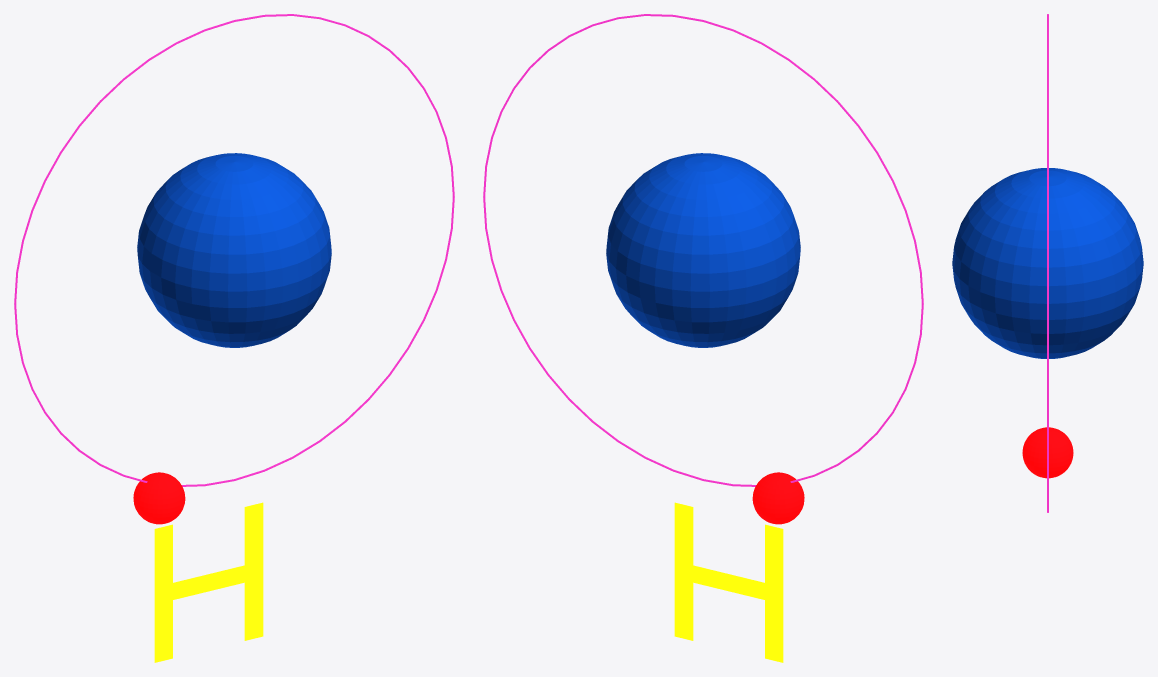
Rendered from hydrogen.glb.
3 views of the same model, side by side, from view 1: azimuth 30°, elevation 25°; view 2: azimuth 150°, elevation 25°; view 3: azimuth 270°, elevation 25° (orthographic).
Parts seen in each view (by area): view 1: Sphere, Text, BézierCircle, Sphere.001; view 2: Sphere, Text, BézierCircle, Sphere.001; view 3: Sphere, Sphere.001, BézierCircle.
Boxes of the visible parts, left/top/right/bottom form: Sphere: left=137, top=153, right=331, bottom=347; Text: left=154, top=502, right=263, bottom=662; BézierCircle: left=14, top=14, right=454, bottom=486; Sphere.001: left=133, top=472, right=185, bottom=524; Sphere: left=606, top=153, right=800, bottom=347; Text: left=674, top=502, right=783, bottom=662; BézierCircle: left=483, top=14, right=923, bottom=486; Sphere.001: left=752, top=472, right=804, bottom=524; Sphere: left=952, top=168, right=1143, bottom=358; Sphere.001: left=1022, top=427, right=1073, bottom=478; BézierCircle: left=1047, top=14, right=1048, bottom=512.
Bounding box in the file's own units: 2.35 × 3.17 × 0.9.
